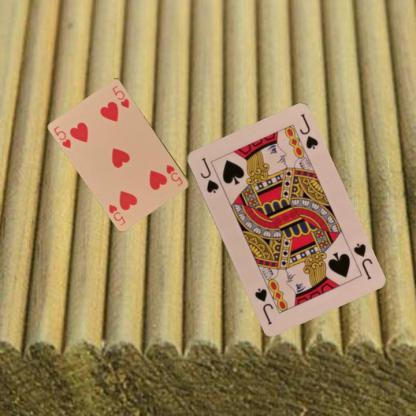5h: (52, 123, 72, 150), (164, 162, 184, 188)
Js: (350, 240, 374, 282), (197, 154, 220, 195)
